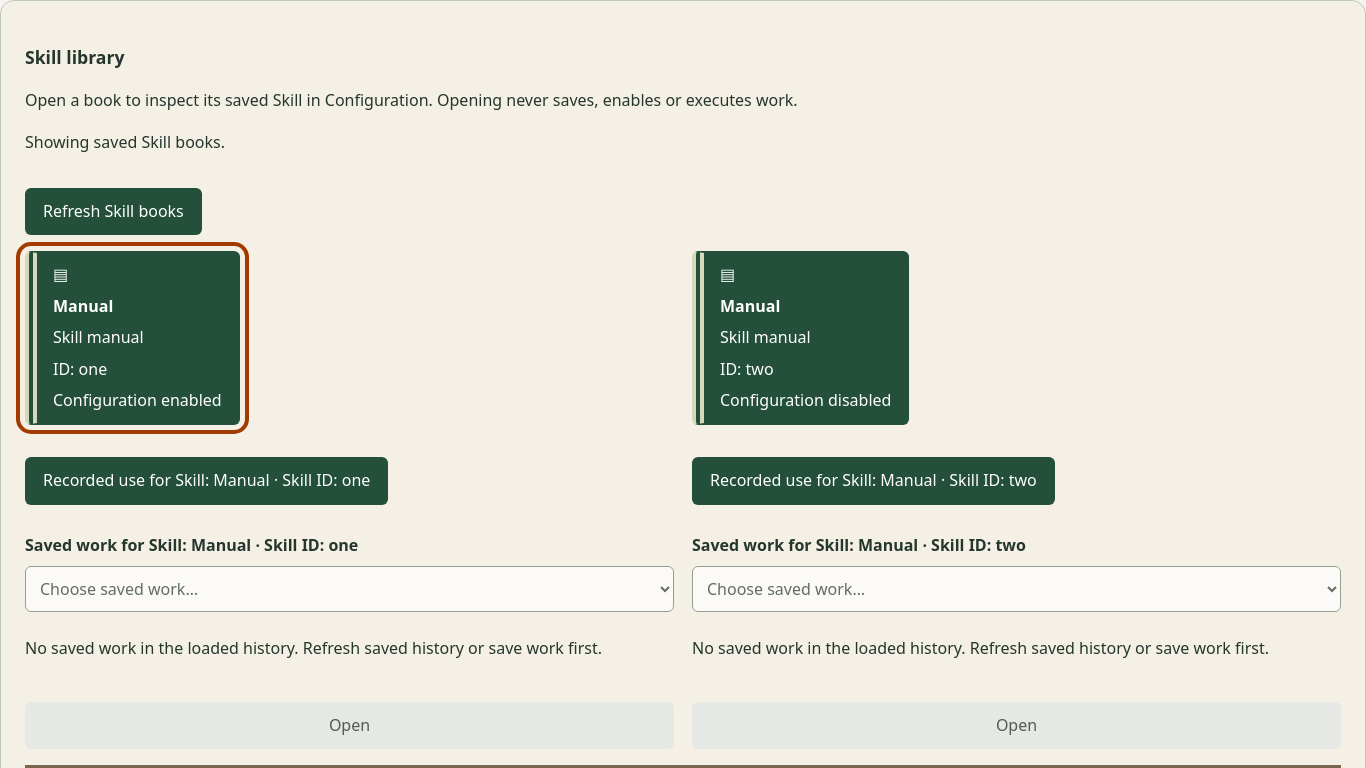
Test case: books show loading, duplicate identities, keyboard controls and stale snapshots
Expected: the text "Loading Skill books…" is shown, [25,131,225,153]
Expected: the button with aria-label "Open Skill book: Manual · ID: one" shows "Configuration enabled", [25,251,240,425]
Press Enter
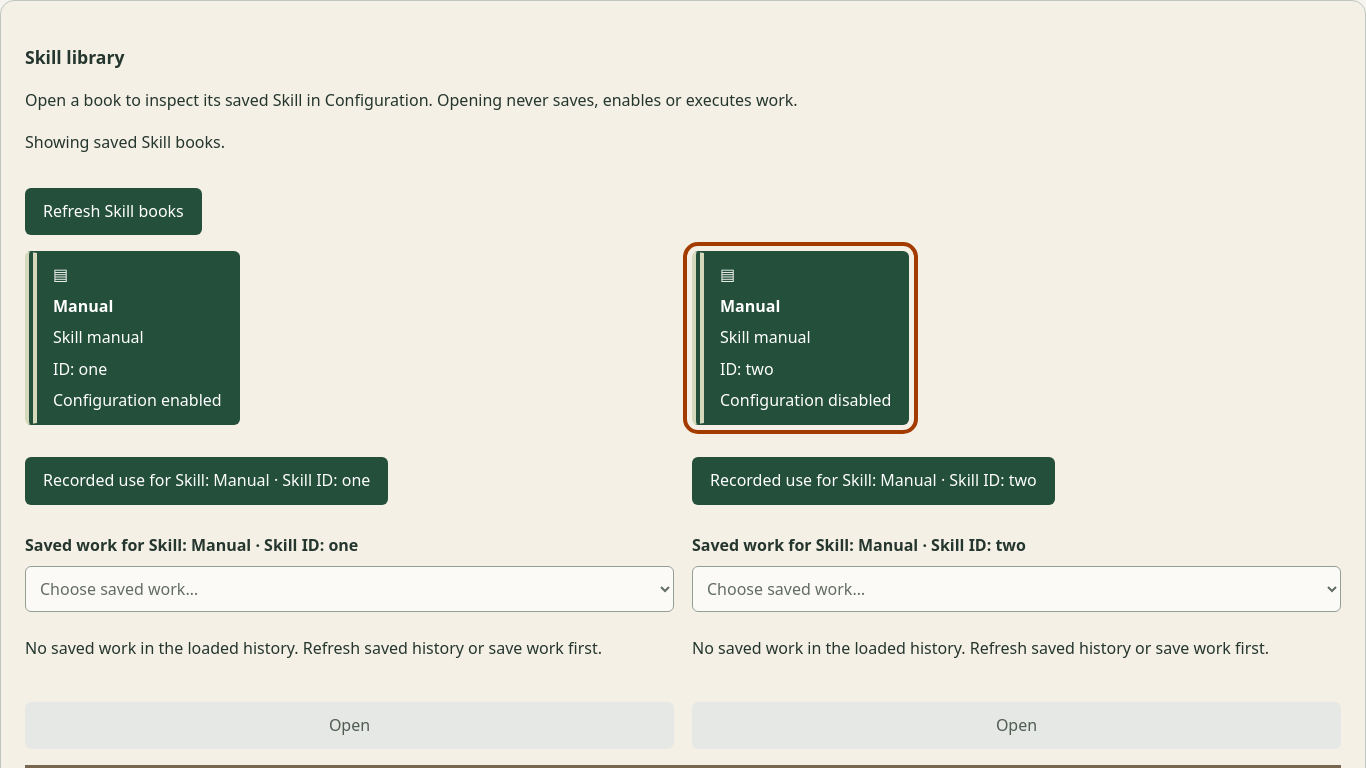
Type keys " "
Click the button "Refresh Skill books".
click(113, 211)  # box [25,188,202,235]
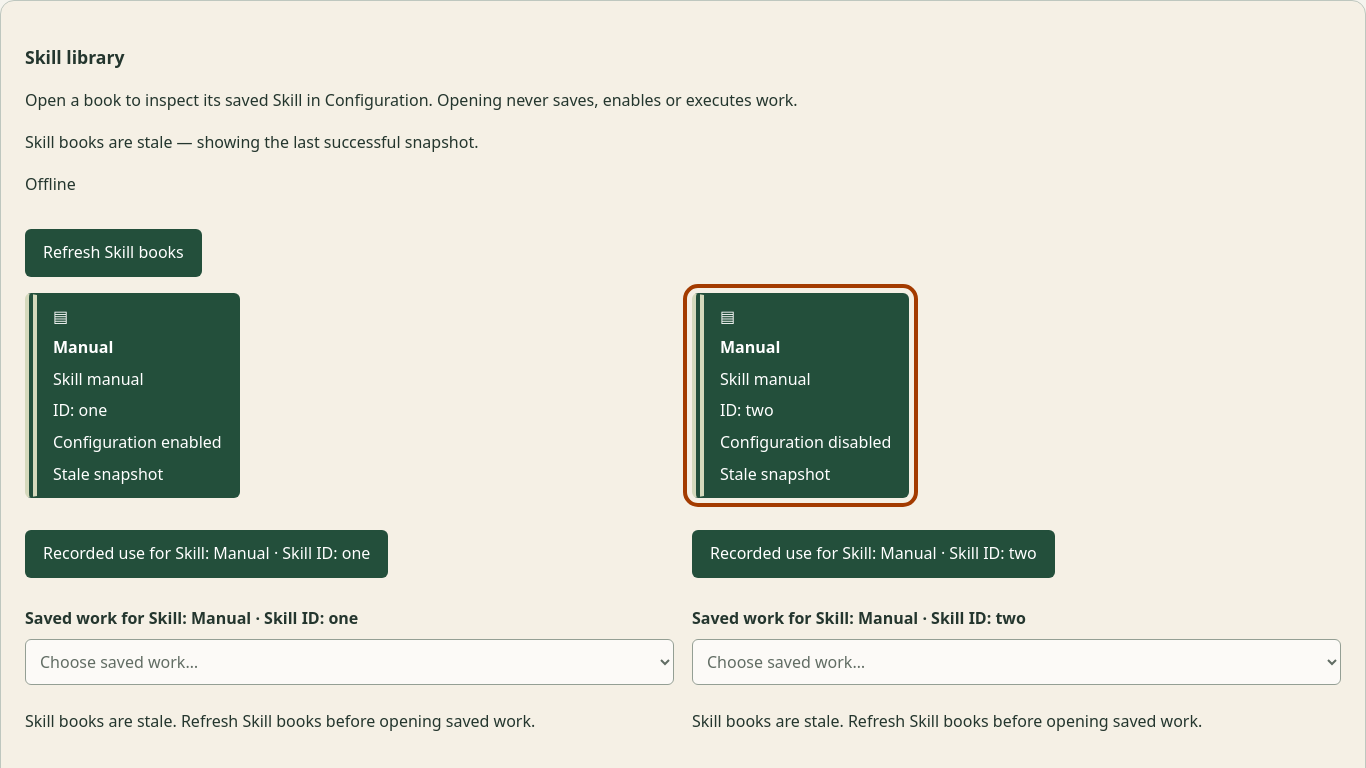
Expected: the message "Skill books are stale — showing the last successful snapshot." is shown, [25,131,478,153]
Expected: the text "Stale snapshot" is shown 2 times, [53,462,163,487]; [720,462,830,487]
